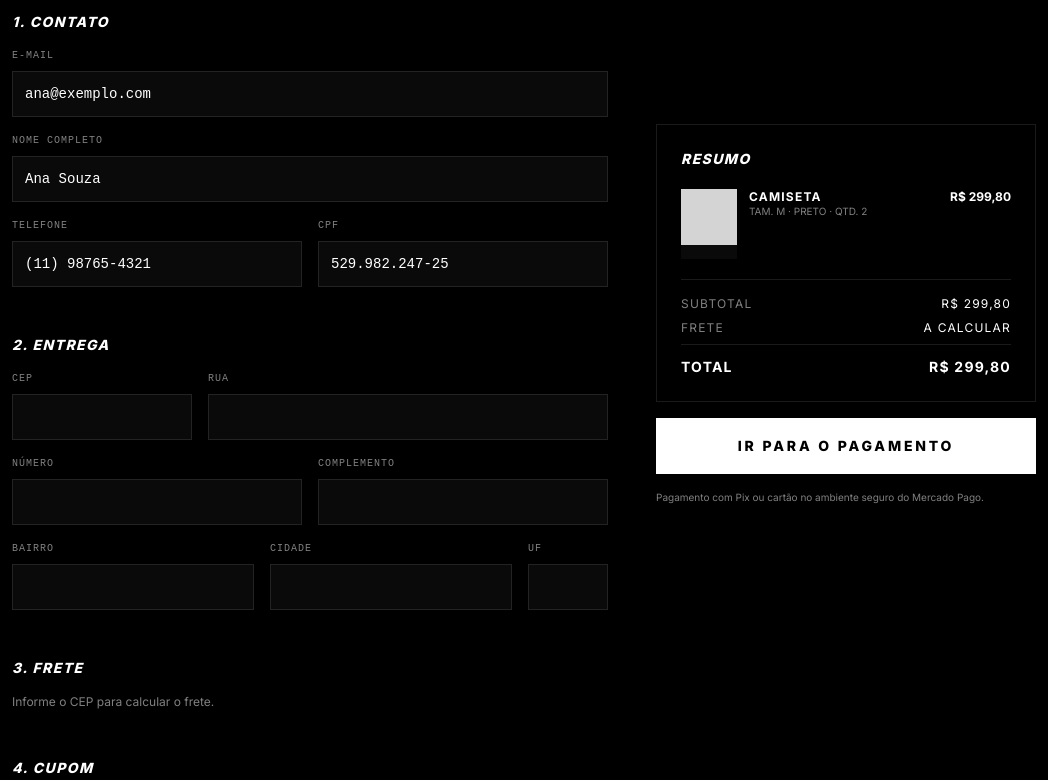
Test: checkout › exige escolher o frete
expect the text "Camiseta" is shown: met, box [749,189,822,204]
Type "01001000" into the field labelled "CEP" at (102, 417), box [12,394,192,440]
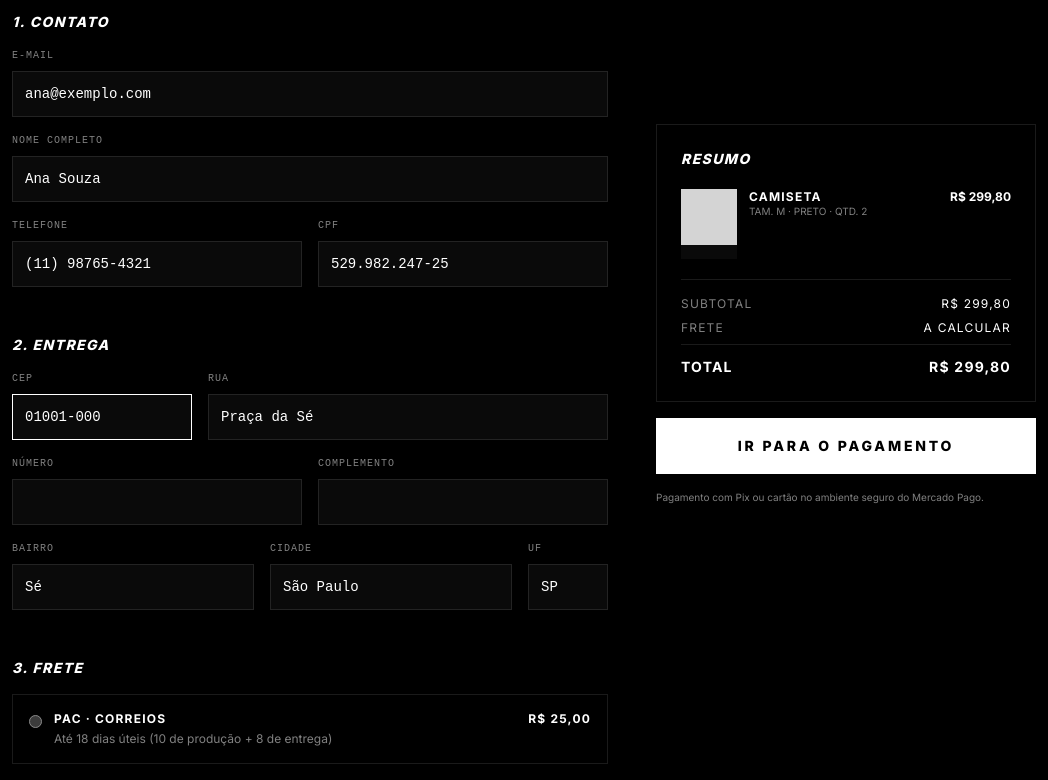
Type "100" into the field labelled "Número" at (157, 502), box [12,479,302,525]
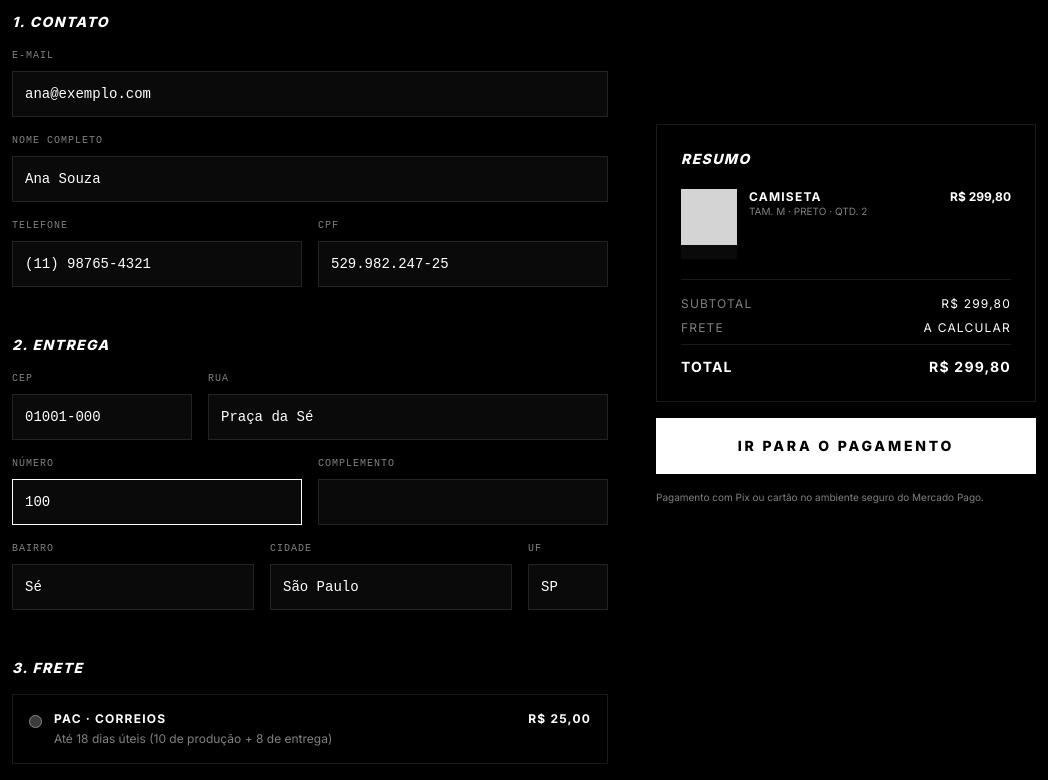
Click the button "Ir para o pagamento" at (846, 446), box [656,418,1036,474]
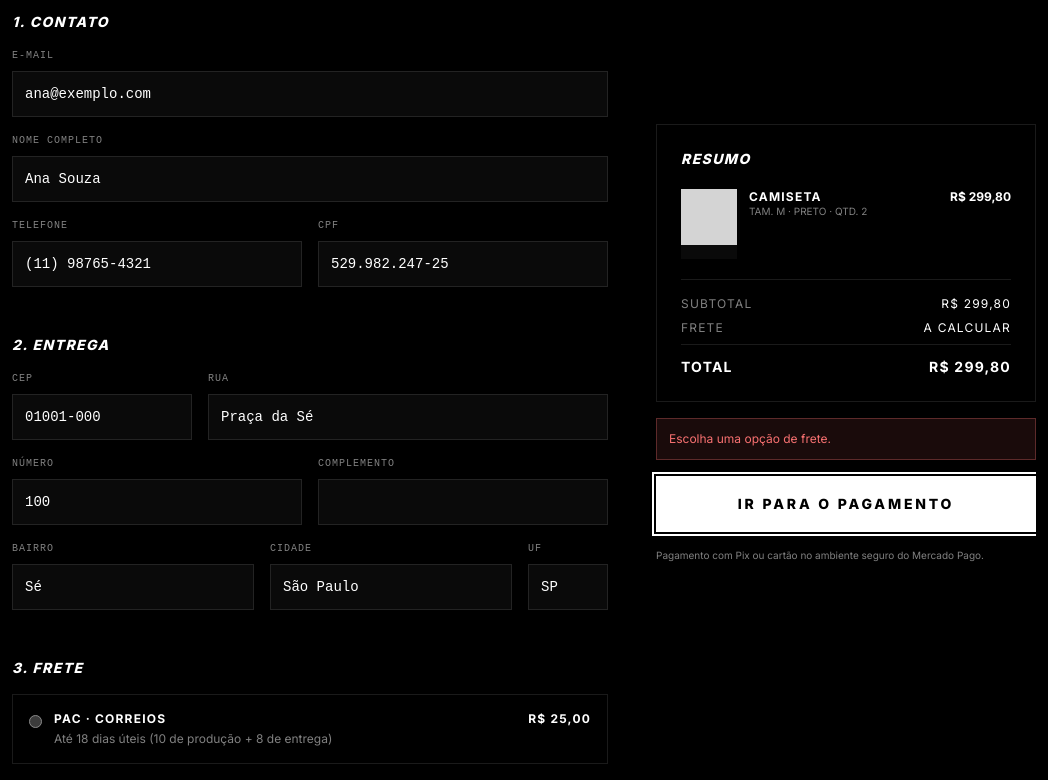
expect the text "Escolha uma opção de frete." is shown: met, box [656,418,1036,460]
